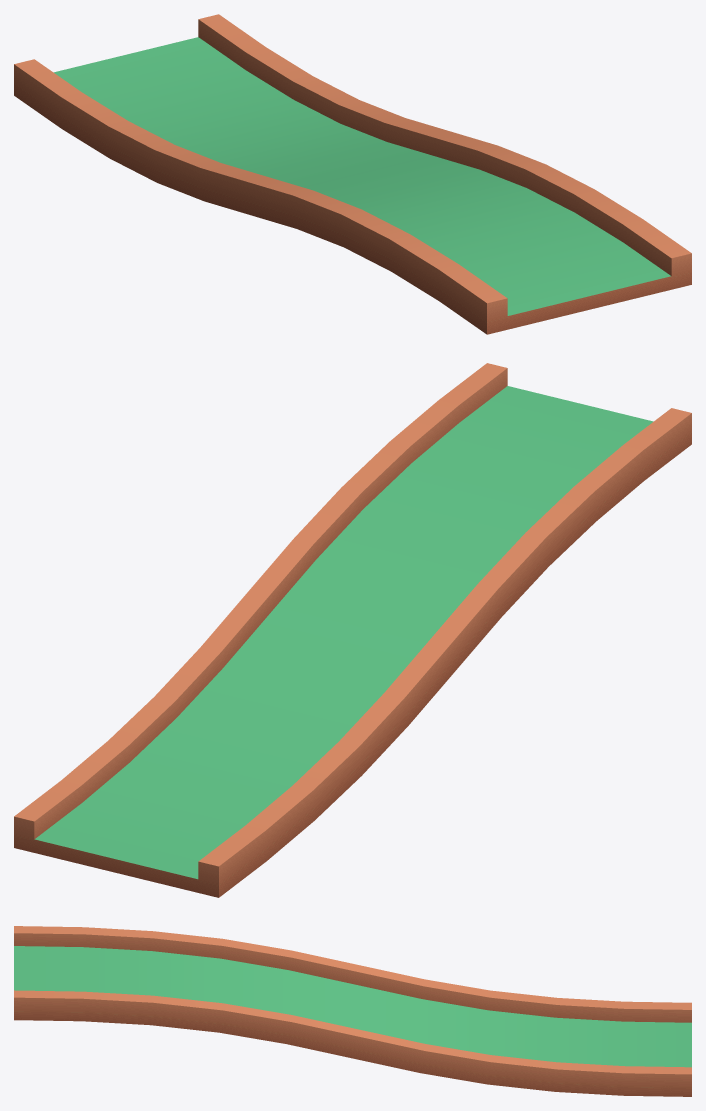
The model's file is spline-default-straight-hill-complete-half.glb.
3 renders of one model, top to bottom at view 1: azimuth 30°, elevation 25°; view 2: azimuth 150°, elevation 25°; view 3: azimuth 270°, elevation 25°, orthographic. The views are drawn at different scales.
Parts seen in each view (by area): view 1: spline-default-straight-hill-complete-half; view 2: spline-default-straight-hill-complete-half; view 3: spline-default-straight-hill-complete-half.
Part boxes in pixels (x1,y1,x2,y2): spline-default-straight-hill-complete-half: [14, 14, 691, 334]; spline-default-straight-hill-complete-half: [14, 363, 691, 897]; spline-default-straight-hill-complete-half: [14, 926, 691, 1096].
Size of the model in its own units: 0.9999 by 0.6467 by 4.
1 material, 1 textured.
